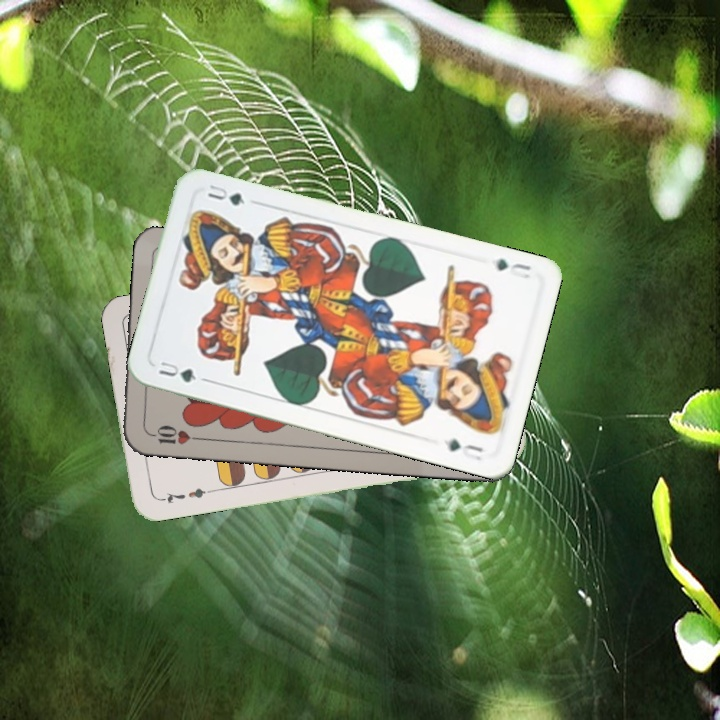E7: (155, 484, 214, 507)
GU: (155, 357, 199, 385), (491, 254, 534, 281)
H10: (144, 421, 203, 447)
